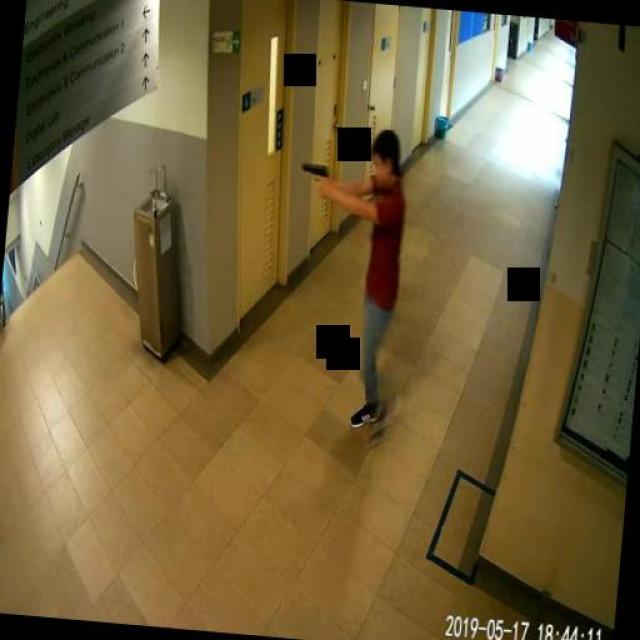gun: (298, 160, 328, 199)
